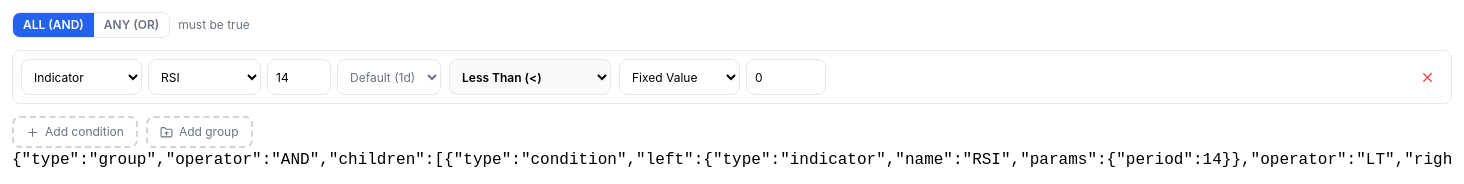
Test: ExpressionGroupEditor › Remove condition removes only that condition, down to an empty-group empty state
The image size is (1464, 184).
Click the button named "Remove condition" at x=1427, y=77, box left=1411, top=61, right=1443, bottom=93
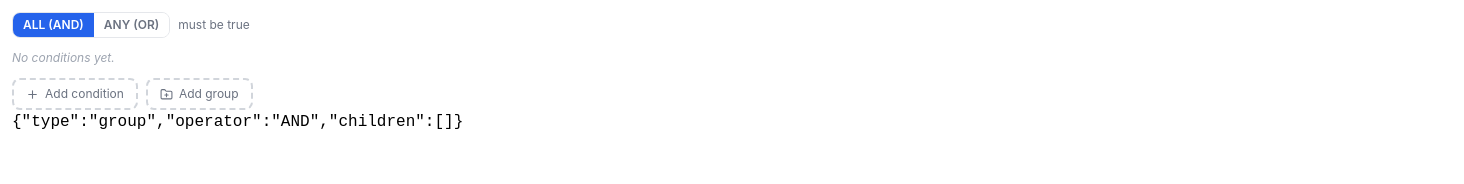
Expected: the text "No conditions yet." is shown, left=12, top=50, right=115, bottom=65
